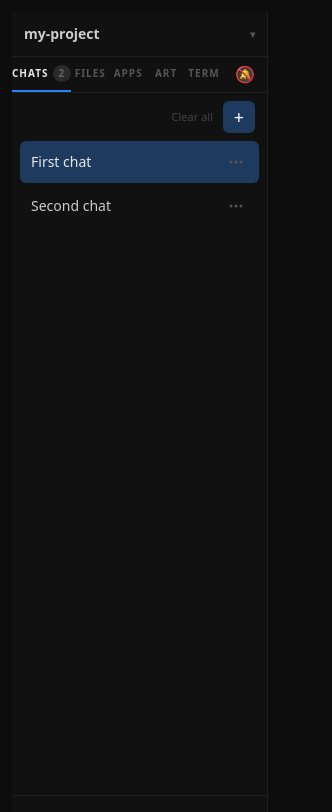
Scenario: SessionSidebar › opens the CLI picker popover when + is clicked (multi-CLI deploy)
Click the button titled "New Chat" at (239, 117), box x1=223 y1=101 x2=255 y2=133
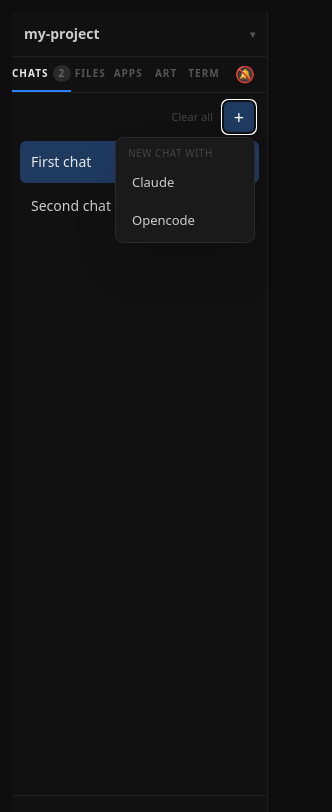
Expected: the text "New chat with" is shown, x1=128 y1=146 x2=213 y2=160
Expected: the menu item "claude" is shown, x1=120 y1=165 x2=250 y2=200
Expected: the menu item "opencode" is shown, x1=120 y1=202 x2=250 y2=238
